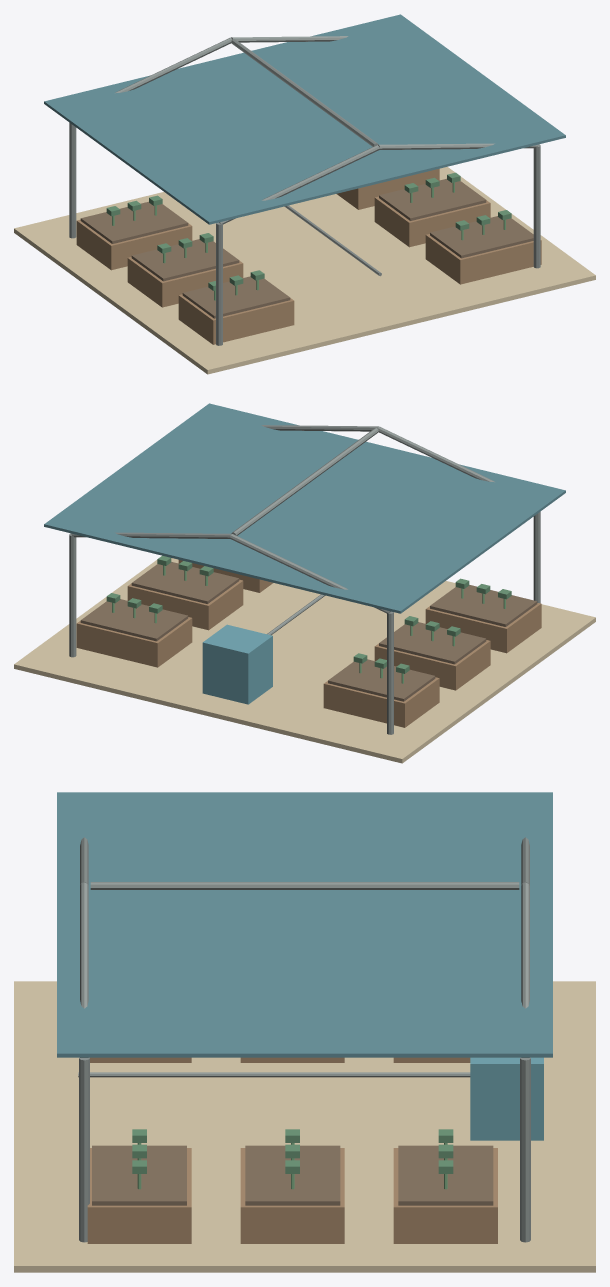
The model's file is renovated_farm.glb.
3 renders of one model, top to bottom at view 1: azimuth 30°, elevation 25°; view 2: azimuth 150°, elevation 25°; view 3: azimuth 270°, elevation 25°, orthographic. The views are drawn at different scales.
Parts seen in each view (by area): view 1: FLOOR_farm walk, shade cloth left, shade cloth right, raised food bed.005, raised food bed.002, fertile bed soil, fertile bed soil.004, fertile bed soil.005, raised food bed.004, raised food bed, fertile bed soil.001, raised food bed.001 (+12 smaller); view 2: FLOOR_farm walk, shade cloth left, shade cloth right, irrigation tank, raised food bed.003, raised food bed, fertile bed soil.002, fertile bed soil.003, fertile bed soil.004, raised food bed.002, raised food bed.004, fertile bed soil.001 (+12 smaller); view 3: FLOOR_farm walk, shade cloth right, shade cloth left, fertile bed soil.003, fertile bed soil.004, fertile bed soil.005, irrigation tank, raised food bed.003, raised food bed.004, raised food bed.005, roof ridge support, irrigation pipe (+6 smaller).
Part boxes in pixels (left/top/right/bottom): FLOOR_farm walk: left=14, top=166, right=595, bottom=374; shade cloth left: left=44, top=57, right=389, bottom=224; shade cloth right: left=221, top=14, right=565, bottom=181; raised food bed.005: left=425, top=234, right=541, bottom=284; raised food bed.002: left=178, top=294, right=294, bottom=344; fertile bed soil: left=80, top=201, right=188, bottom=243; fertile bed soil.004: left=379, top=178, right=486, bottom=220; fertile bed soil.005: left=430, top=216, right=533, bottom=258; raised food bed.004: left=374, top=196, right=490, bottom=247; raised food bed: left=76, top=219, right=192, bottom=270; fertile bed soil.001: left=131, top=239, right=239, bottom=281; raised food bed.001: left=127, top=257, right=243, bottom=307; FLOOR_farm walk: left=14, top=558, right=595, bottom=763; shade cloth left: left=220, top=447, right=565, bottom=613; shade cloth right: left=44, top=403, right=388, bottom=569; irrigation tank: left=202, top=624, right=272, bottom=704; raised food bed.003: left=76, top=617, right=192, bottom=667; raised food bed: left=323, top=677, right=439, bottom=727; fertile bed soil.002: left=430, top=585, right=537, bottom=626; fertile bed soil.003: left=80, top=599, right=188, bottom=641; fertile bed soil.004: left=131, top=562, right=239, bottom=603; raised food bed.002: left=425, top=603, right=541, bottom=653; raised food bed.004: left=127, top=579, right=243, bottom=630; fertile bed soil.001: left=379, top=622, right=486, bottom=664; FLOOR_farm walk: left=14, top=981, right=595, bottom=1272; shade cloth right: left=57, top=921, right=552, bottom=1057; shade cloth left: left=57, top=792, right=552, bottom=924; fertile bed soil.003: left=398, top=1145, right=493, bottom=1205; fertile bed soil.004: left=245, top=1145, right=340, bottom=1205; fertile bed soil.005: left=92, top=1145, right=186, bottom=1205; irrigation tank: left=470, top=1057, right=543, bottom=1140; raised food bed.003: left=393, top=1148, right=497, bottom=1243; raised food bed.004: left=240, top=1148, right=344, bottom=1243; raised food bed.005: left=87, top=1148, right=191, bottom=1243; roof ridge support: left=90, top=882, right=519, bottom=889; irrigation pipe: left=78, top=1072, right=470, bottom=1077.
Size of the model in its own units: 11 by 4.47 by 9.5.
